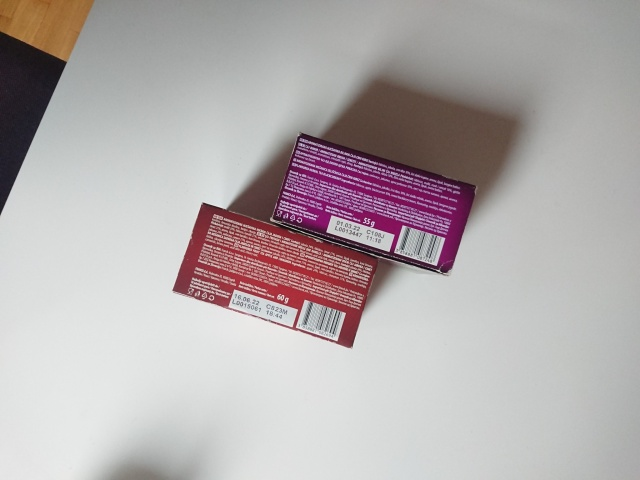Franck Apple Cinnamon Tea 60g: (169, 200, 382, 351)
Franck Black Currant Tea 60g: (267, 129, 482, 279)
